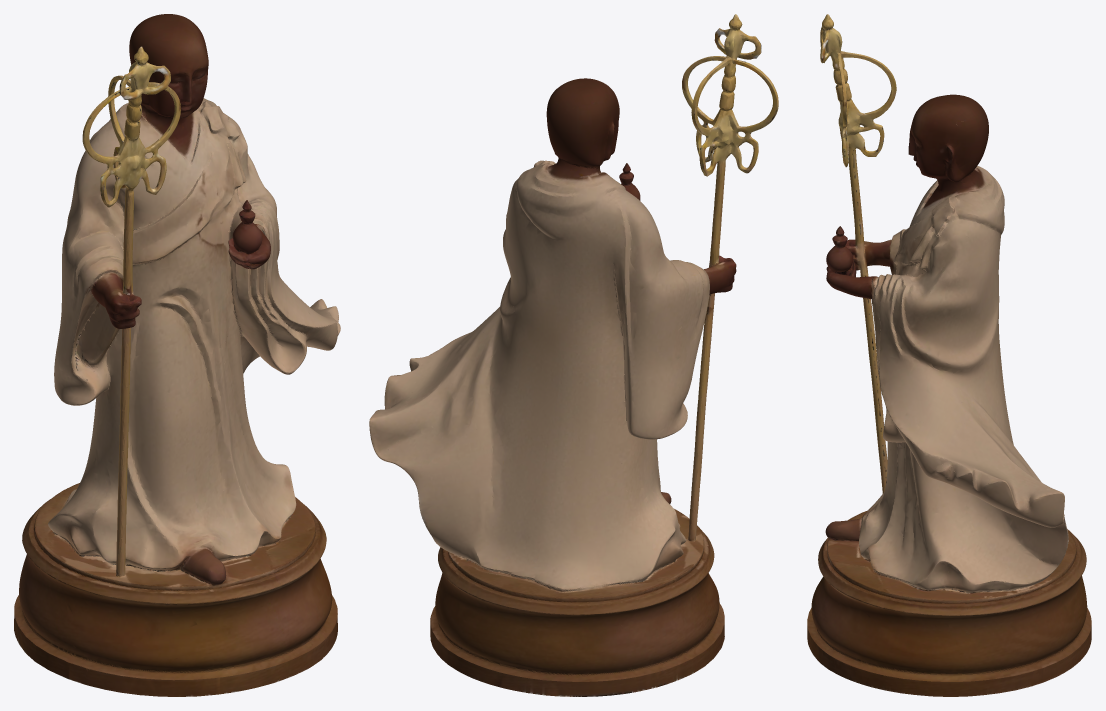
File: bishop.glb
3 views of the same model, side by side, from view 1: azimuth 30°, elevation 25°; view 2: azimuth 150°, elevation 25°; view 3: azimuth 270°, elevation 25° (orthographic). The views are drawn at different scales.
Parts seen in each view (by area): view 1: model; view 2: model; view 3: model.
Part boxes in pixels (x1,y1,x2,y2): model: (14,14,340,696); model: (369,14,778,696); model: (807,14,1091,696).
Bounding box in the file's own units: 1.01 × 1.9 × 0.8467.
Materials: 1 (1 with a texture image).
